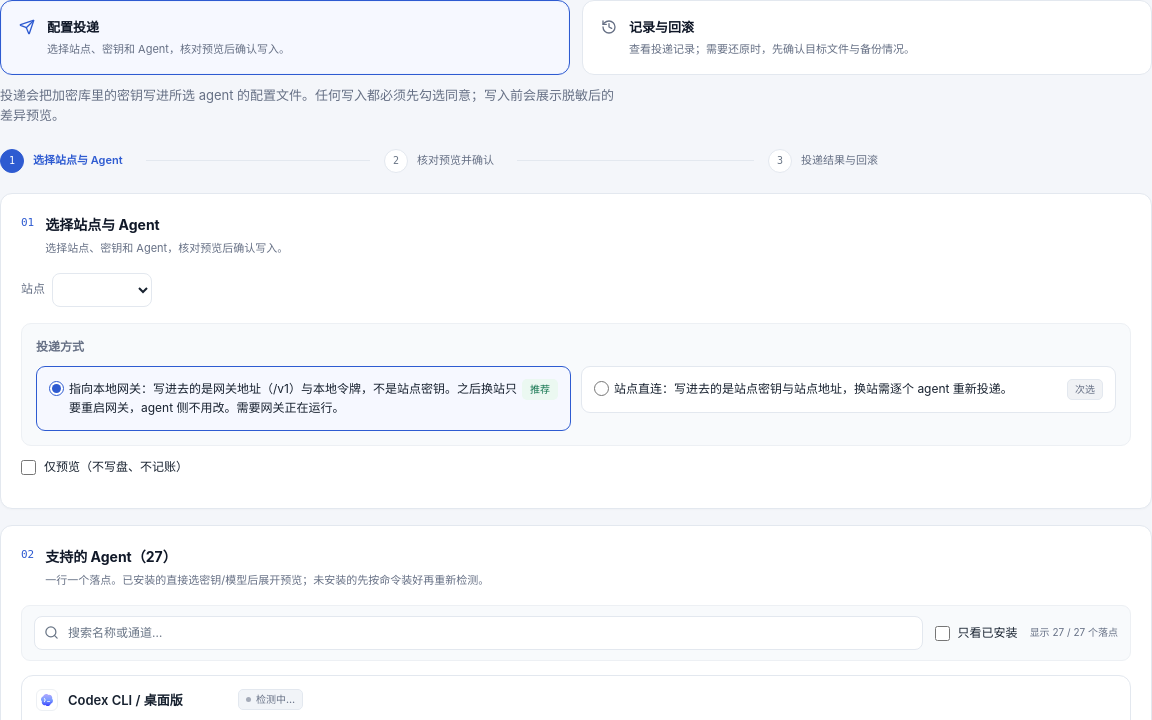
it: Delivery › 配置与历史分视图；历史仍完整展示记录与回滚入口
Expected: the heading "支持的 Agent（27）" is shown, [45,548,177,565]
Expected: the text "/a/b.json" is not shown
Click the tab "记录与回滚 查看投递记录；需要还原时，先确认目标文件与备份情况。". click: click(662, 27)
box: [582,0,1151,75]
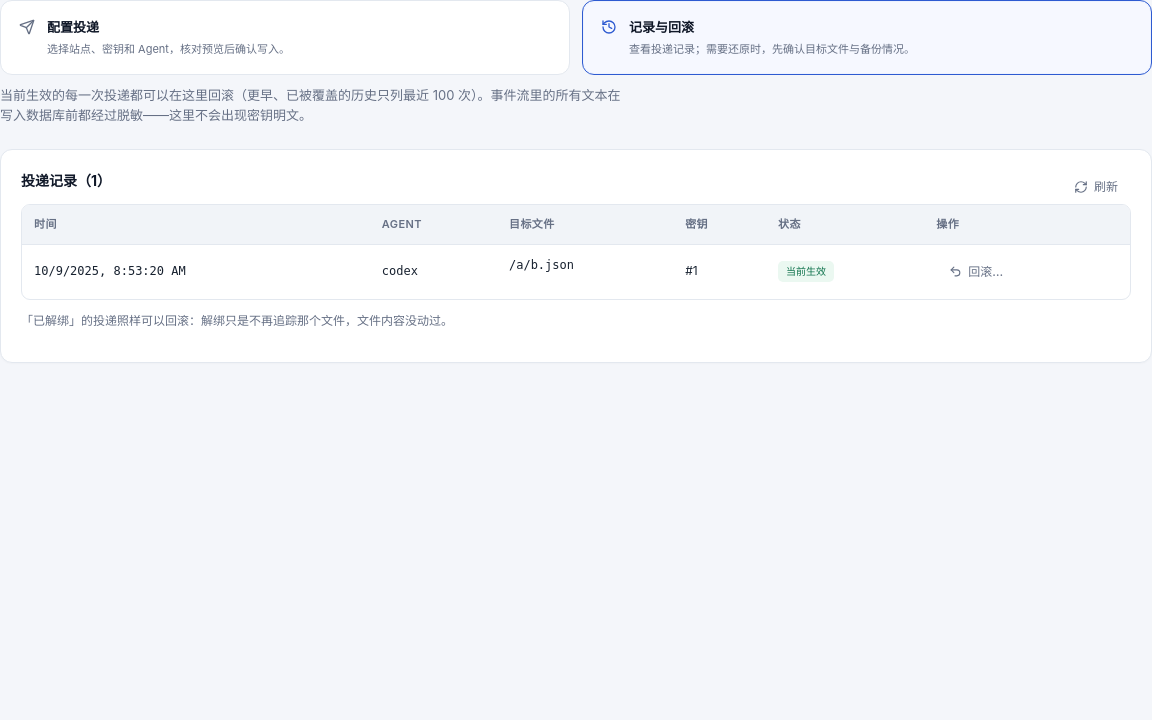
Expected: the heading "投递记录（1）" is shown, [21,170,111,192]
Expected: the text "/a/b.json" is shown, [497,245,586,285]
Expected: the heading "支持的 Agent（27）" is gone
Click the tab "配置投递 选择站点、密钥和 Agent，核对预览后确认写入。". click: click(73, 27)
box: [0,0,570,75]
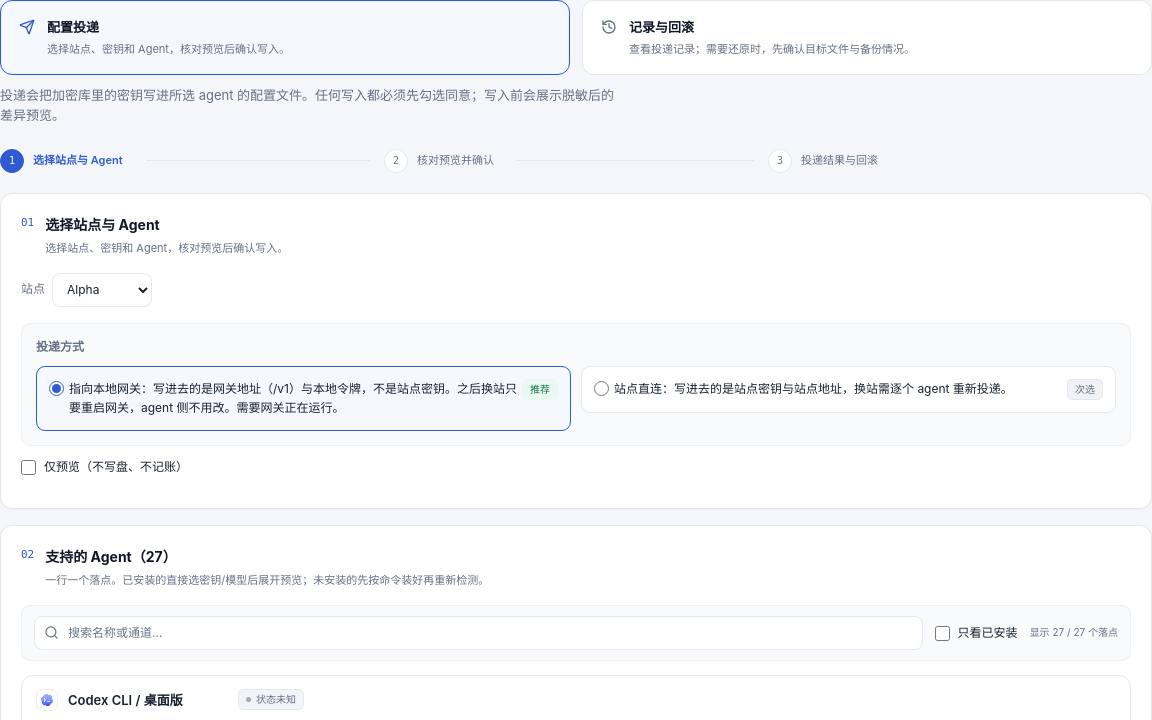
Expected: the heading "支持的 Agent（27）" is shown, [45,548,177,565]
Expected: the text "/a/b.json" is gone
